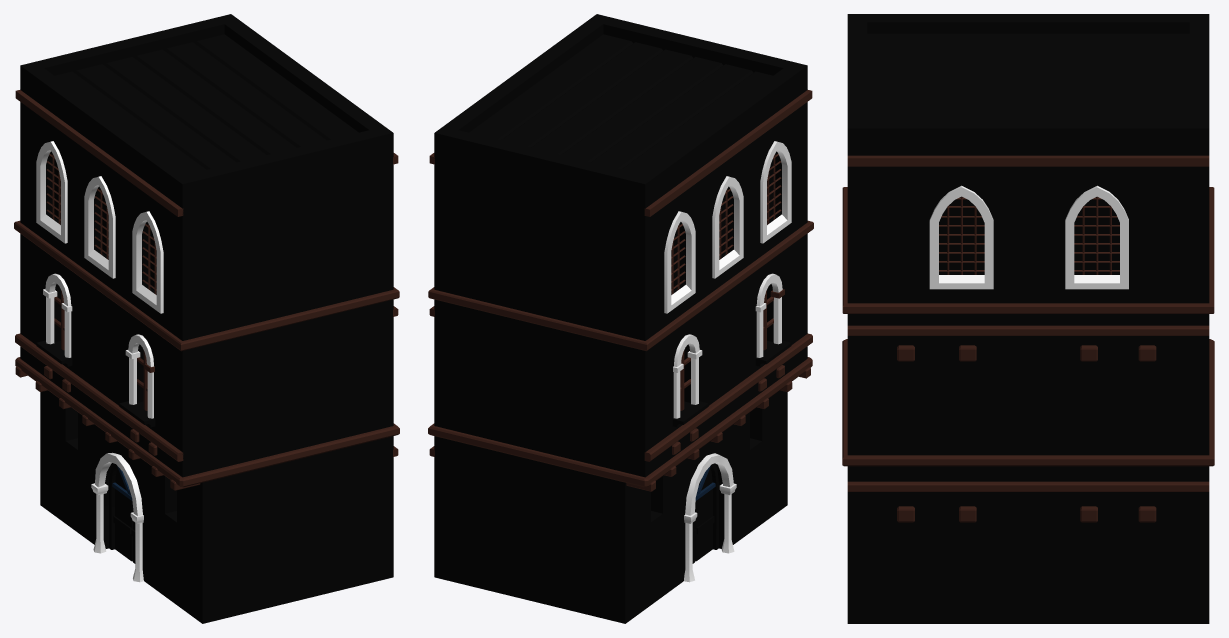
Rendered from civilian_house_28.FBX.
3 renders of one model, left to right at view 1: azimuth 30°, elevation 25°; view 2: azimuth 150°, elevation 25°; view 3: azimuth 270°, elevation 25°, orthographic. The views are drawn at different scales.
Visible parts, largest first — view 1: civilian_house_28; view 2: civilian_house_28; view 3: civilian_house_28.
Boxes of the visible parts, x1,y1,x2,y2 form: civilian_house_28: (14, 14, 399, 623); civilian_house_28: (428, 14, 813, 623); civilian_house_28: (842, 14, 1214, 623).
Size of the model in its own units: 649 by 1208 by 823.
